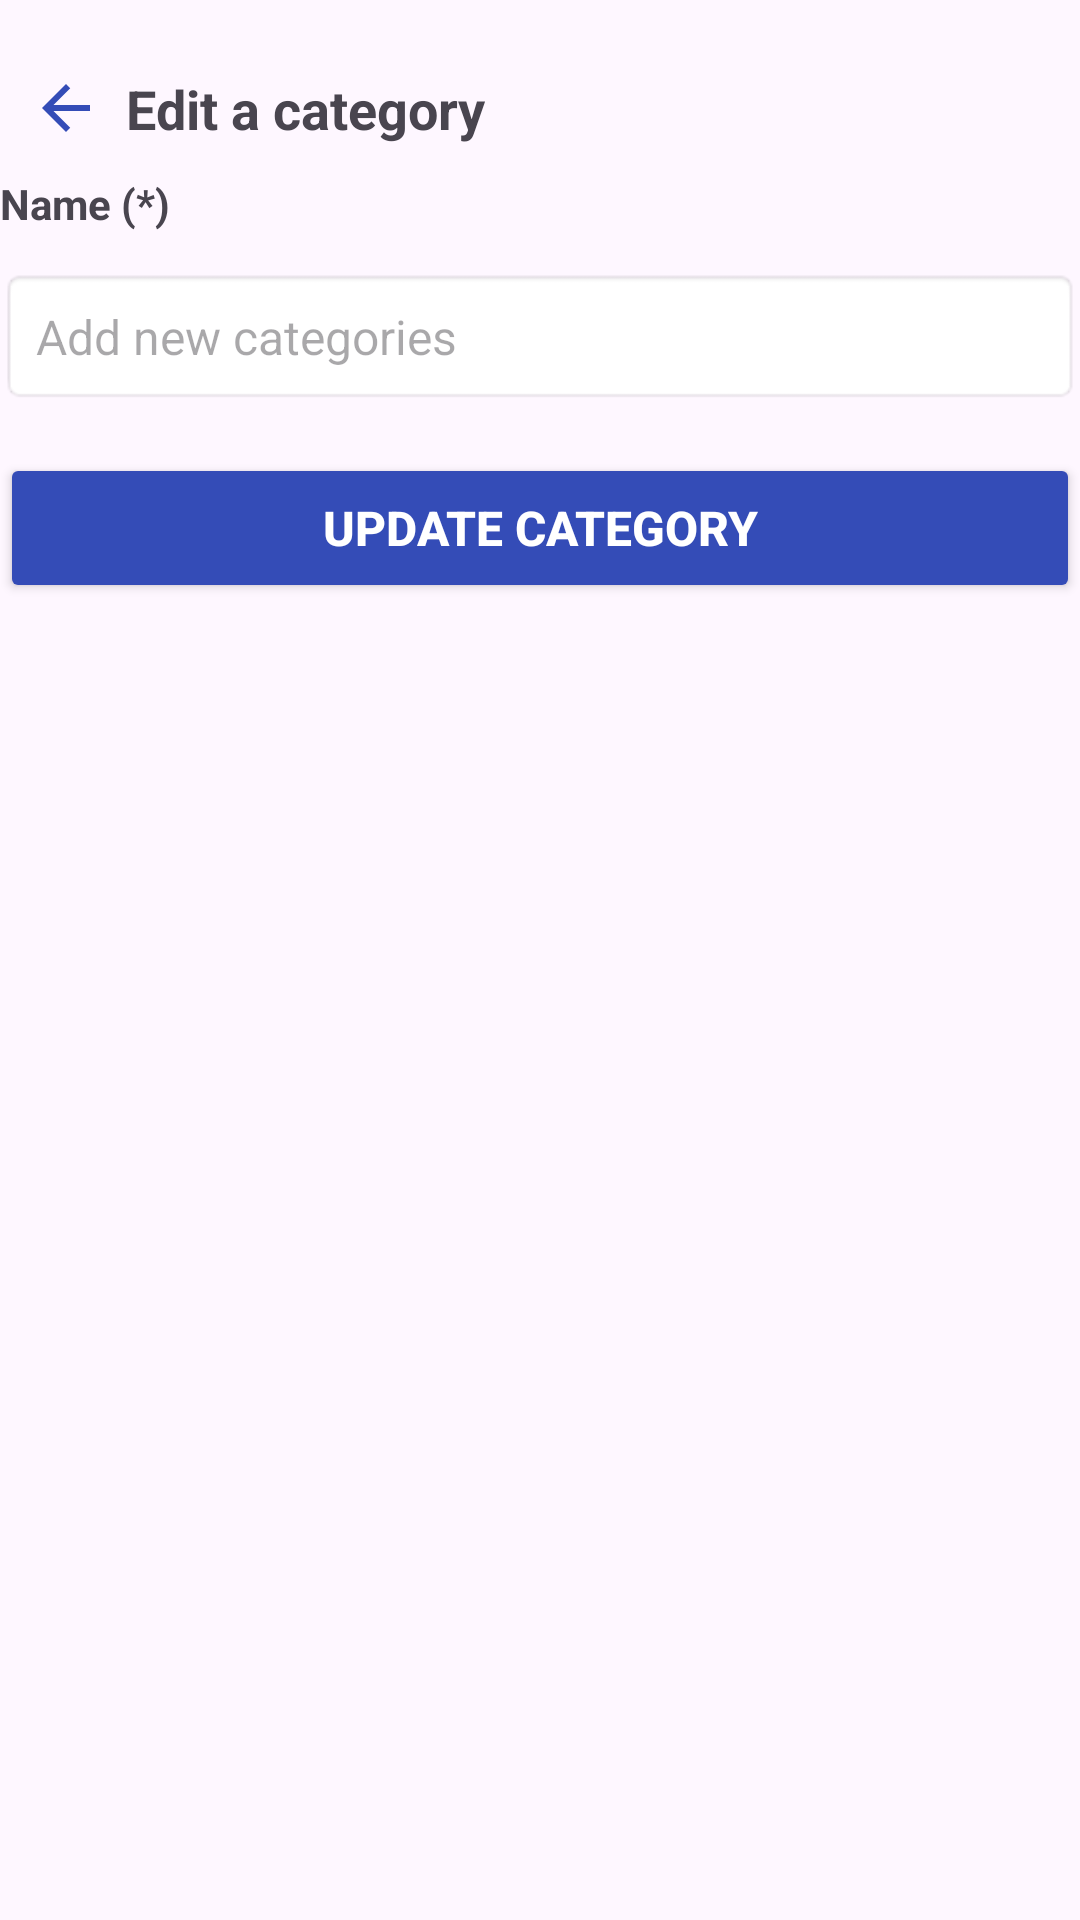

Icons on this 1080 x 1920 Android screen, each with the point to tap as [x,y]:
arrow back: [66,108]
